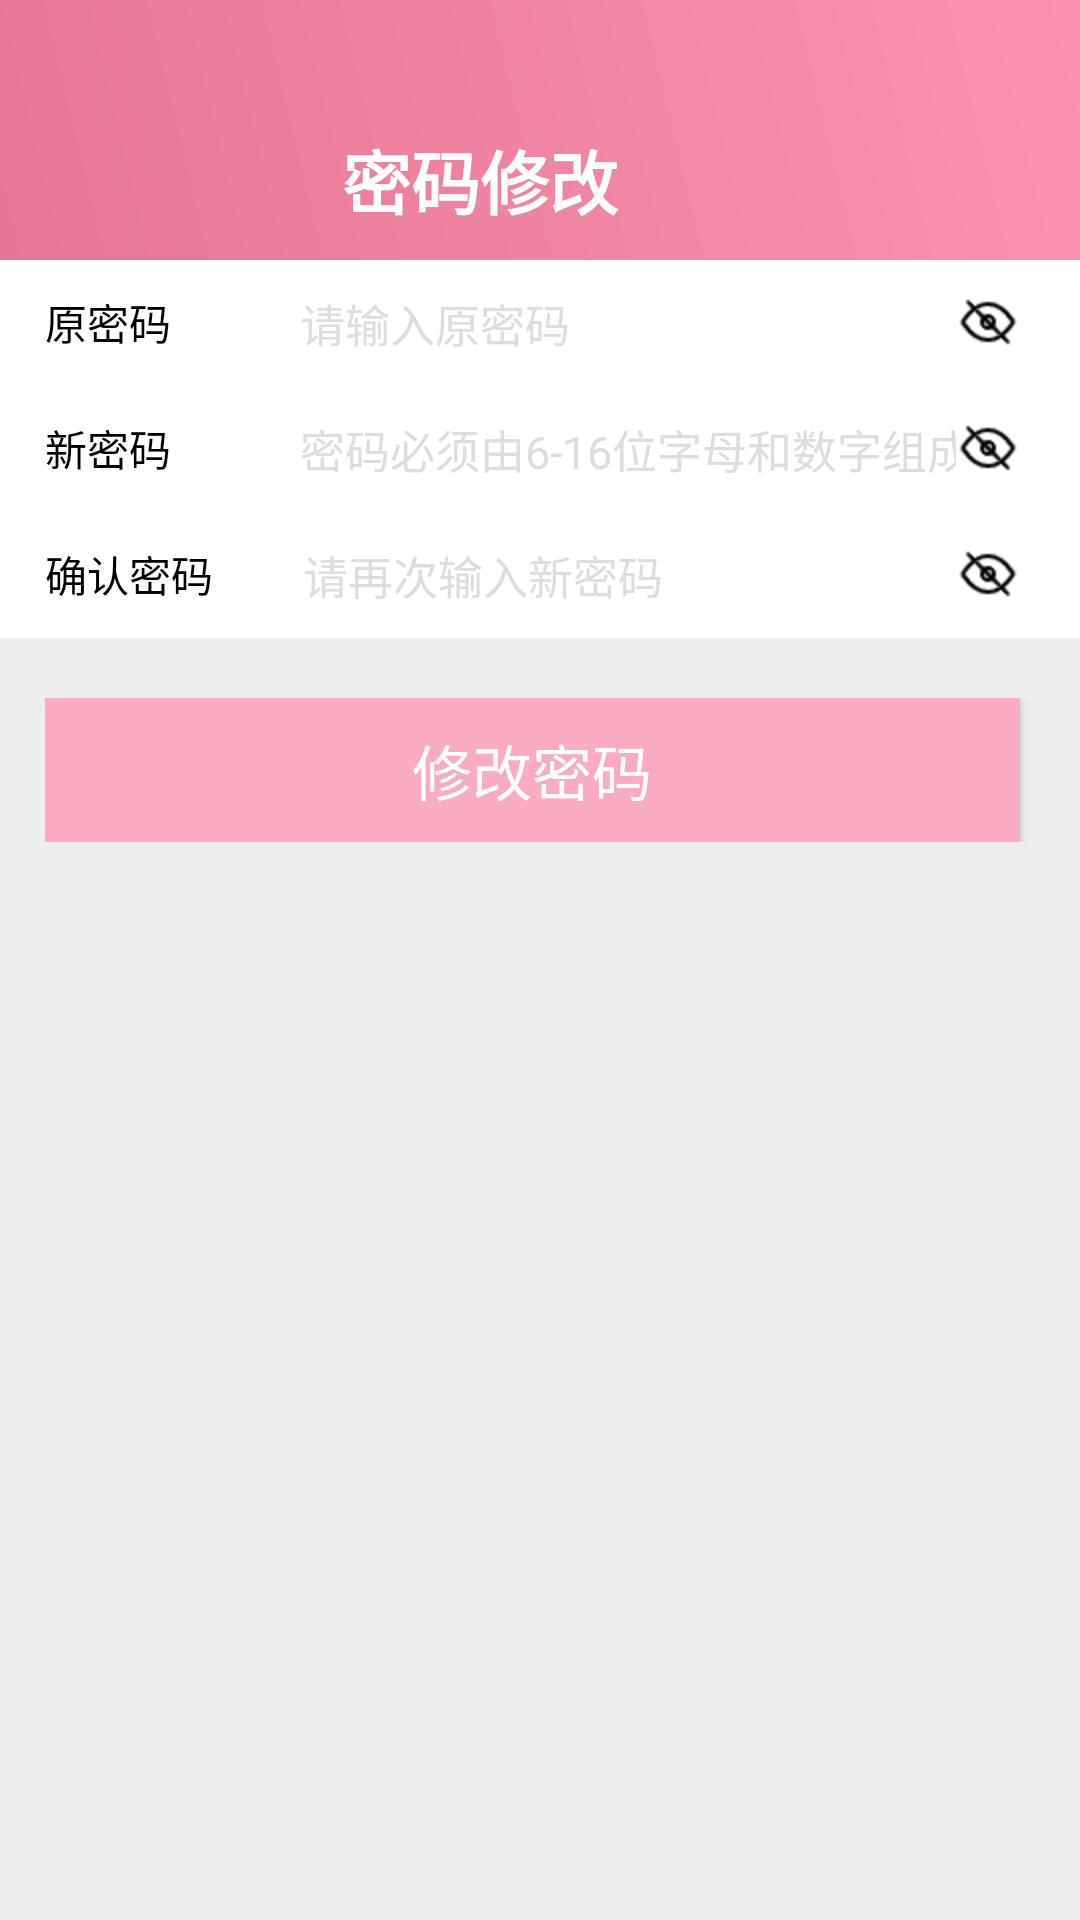

Screen size 1080 x 1920. Icon name, then its center in pixels as (x=x, y=y):
cantsee: (x=988, y=322), (x=988, y=448), (x=988, y=574)
